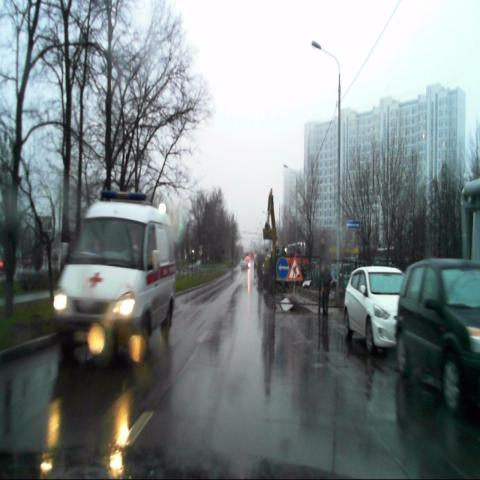4_1_2_2: (277, 256, 289, 278)
